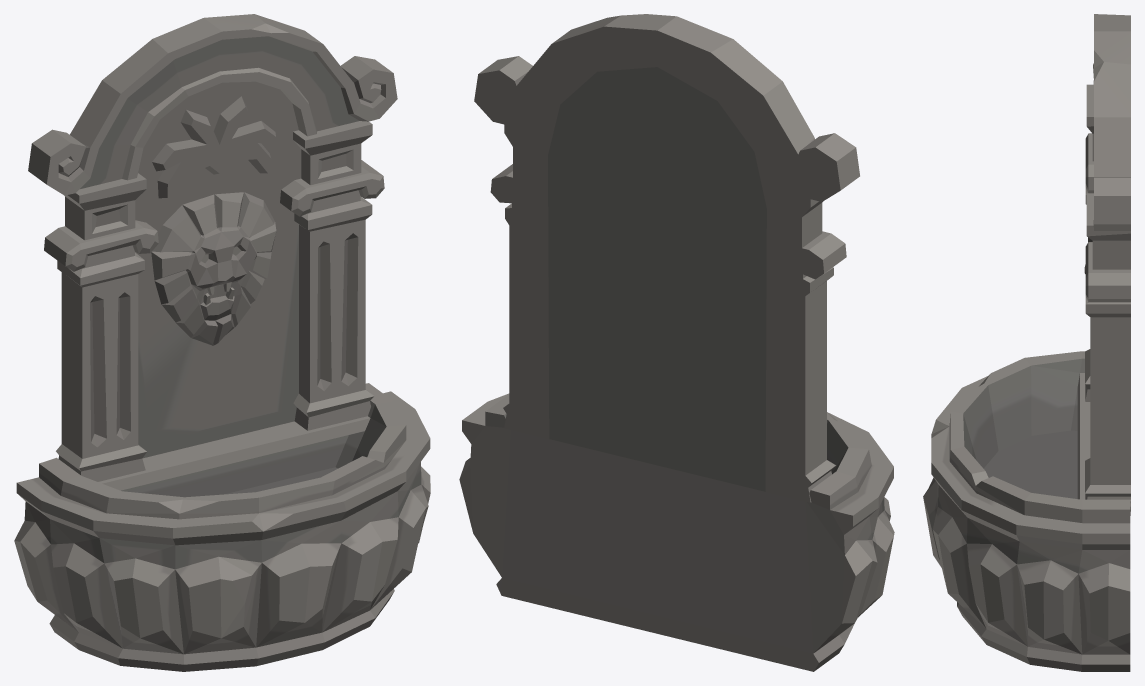
The model's file is ancient_SM_Prop_Fountain_01.gltf.
3 renders of one model, left to right at view 1: azimuth 30°, elevation 25°; view 2: azimuth 150°, elevation 25°; view 3: azimuth 270°, elevation 25°, orthographic. The views are drawn at different scales.
Parts seen in each view (by area): view 1: SM_Prop_Fountain_01; view 2: SM_Prop_Fountain_01; view 3: SM_Prop_Fountain_01.
Part boxes in pixels (bbox=[...]): SM_Prop_Fountain_01: bbox=[14, 14, 430, 671]; SM_Prop_Fountain_01: bbox=[459, 14, 894, 671]; SM_Prop_Fountain_01: bbox=[923, 14, 1130, 671].
Size of the model in its own units: 0.6811 by 0.9648 by 0.3196.
1 material, 1 textured.
